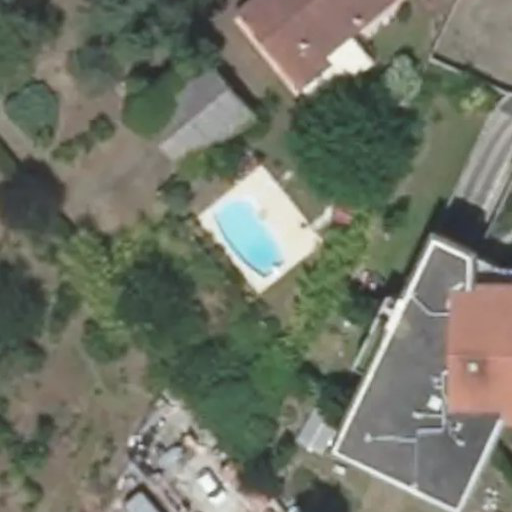pool: (225, 228, 287, 254)
